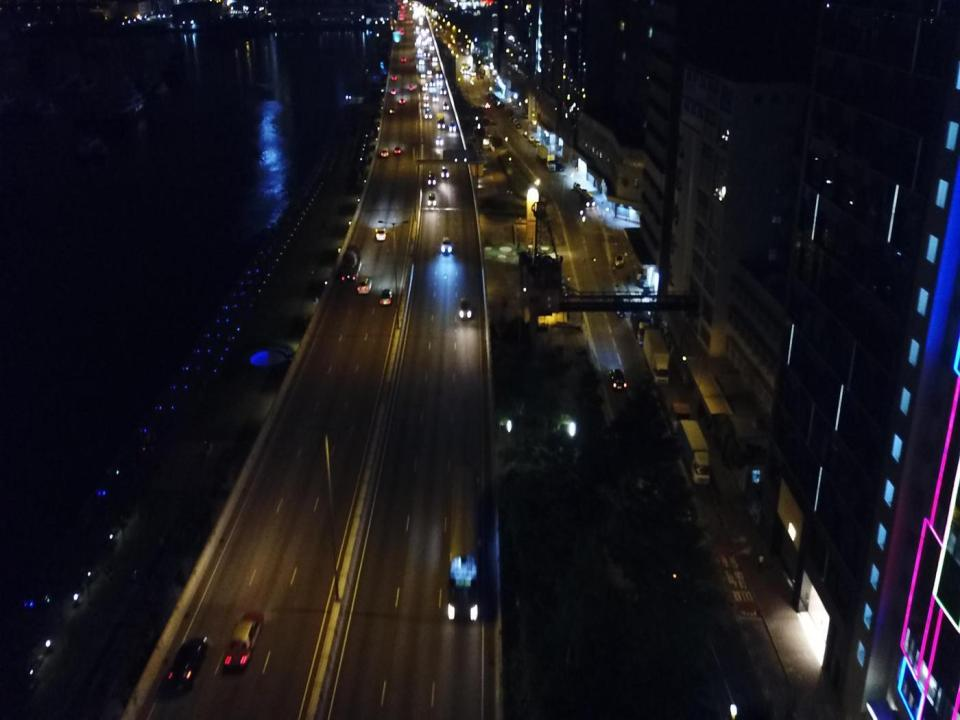bus: (443, 470, 482, 626)
car: (165, 634, 208, 691), (224, 611, 265, 666), (610, 368, 626, 390), (459, 294, 470, 320), (358, 276, 372, 294), (381, 287, 392, 306), (441, 236, 450, 254), (614, 253, 624, 266), (425, 108, 433, 120), (429, 193, 436, 206), (449, 119, 456, 132), (441, 166, 448, 178), (435, 136, 443, 144), (556, 164, 564, 172), (382, 148, 388, 158), (390, 105, 396, 115), (393, 146, 400, 154), (572, 182, 580, 189), (442, 102, 448, 110), (398, 98, 406, 104), (432, 94, 438, 102), (419, 59, 425, 66), (529, 134, 534, 142), (391, 75, 397, 81), (436, 72, 442, 78), (408, 83, 413, 90), (430, 79, 435, 86), (440, 89, 447, 94), (523, 131, 528, 138), (391, 89, 396, 95), (420, 73, 426, 78), (437, 80, 442, 86), (422, 86, 428, 91), (423, 102, 428, 108), (427, 69, 432, 74), (401, 57, 407, 61), (432, 57, 437, 61), (424, 96, 428, 100), (418, 48, 421, 53)
truck: (678, 420, 710, 484), (659, 384, 691, 435), (643, 329, 669, 386), (631, 302, 651, 346), (342, 243, 362, 281), (536, 143, 556, 171), (580, 188, 594, 206), (436, 112, 444, 130), (424, 49, 430, 56)
van: (614, 296, 626, 317), (376, 228, 387, 241), (428, 172, 436, 185), (535, 139, 540, 146)
